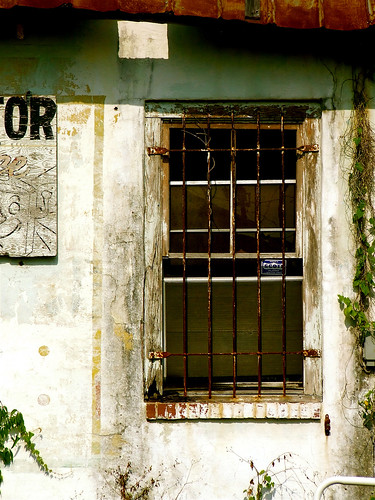wall: (6, 29, 349, 500)
window: (146, 106, 320, 403)
